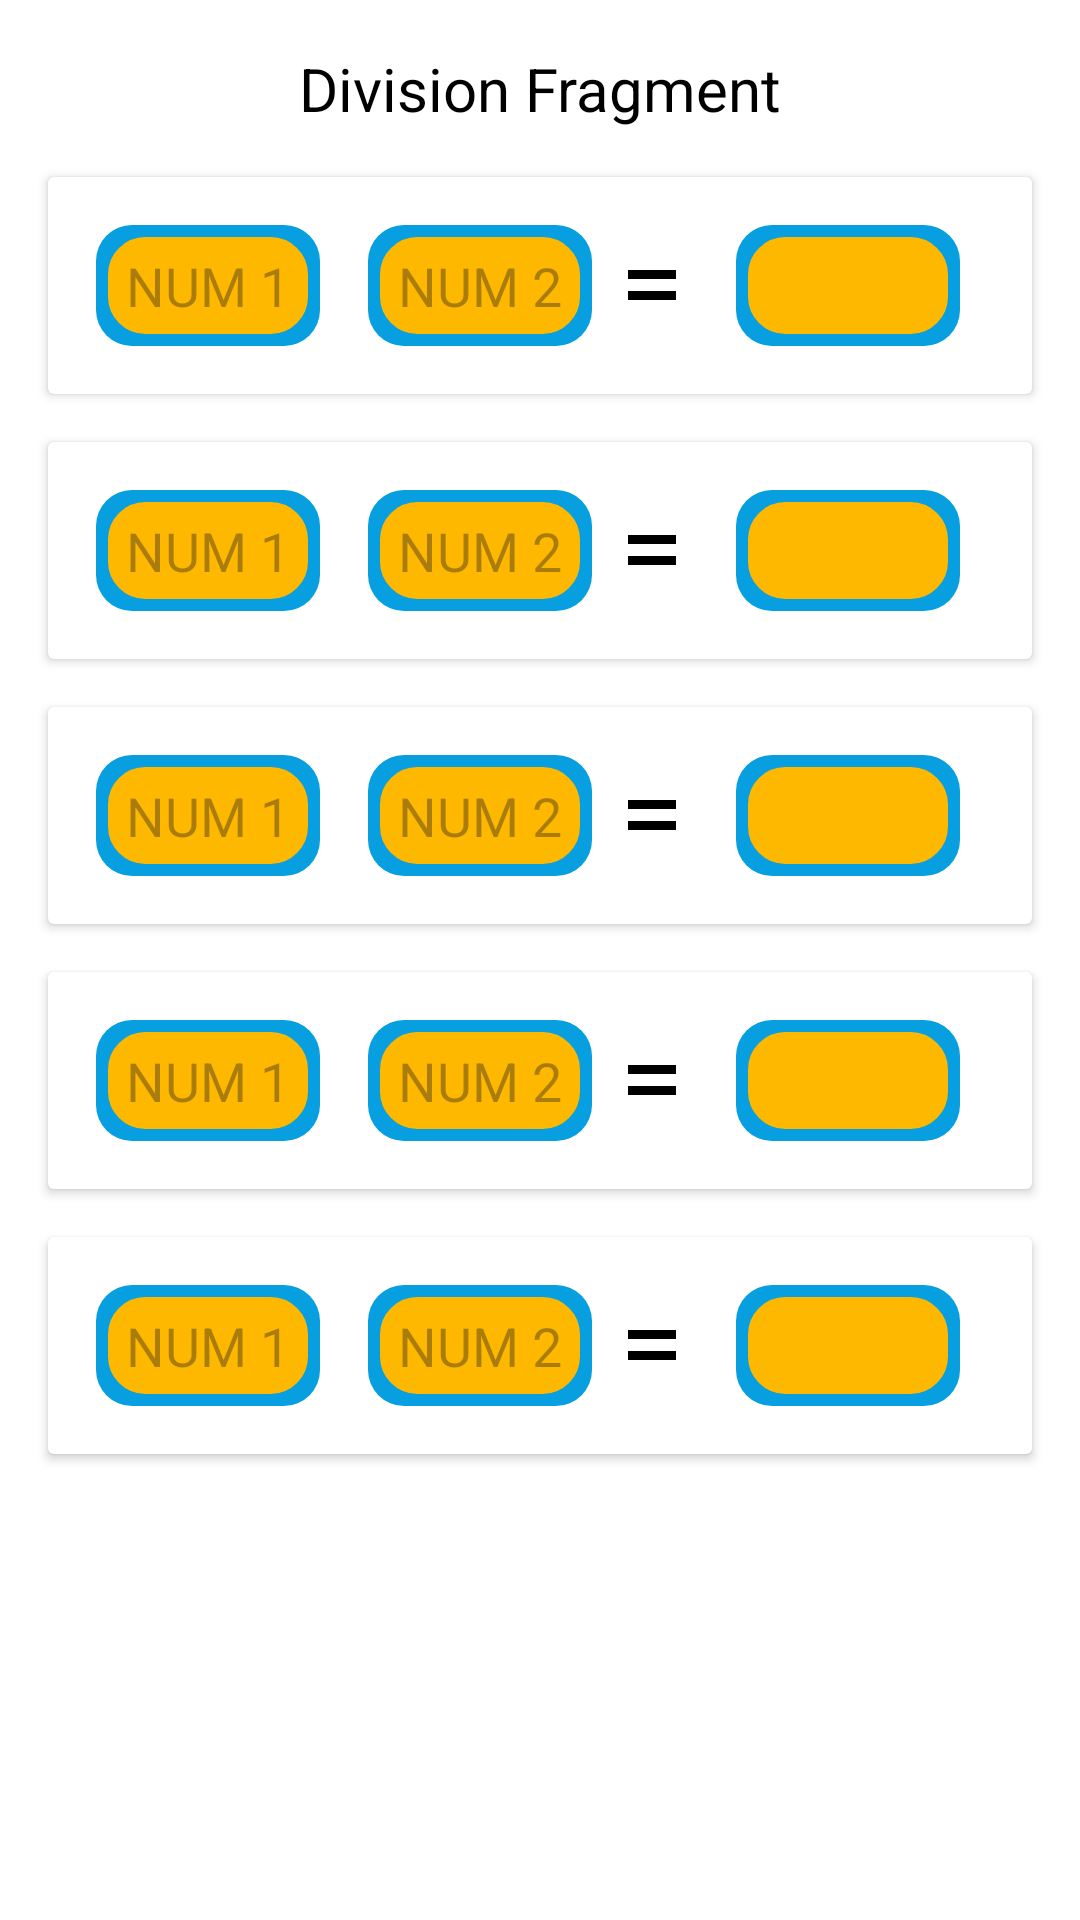

Screen size 1080px×1920px. Icon name, then its box in pixels as (x1, y1, x2, y2):
Equal symbol: (628, 270, 676, 300), (628, 535, 676, 565), (628, 800, 676, 830), (628, 1065, 676, 1095), (628, 1330, 676, 1360)
